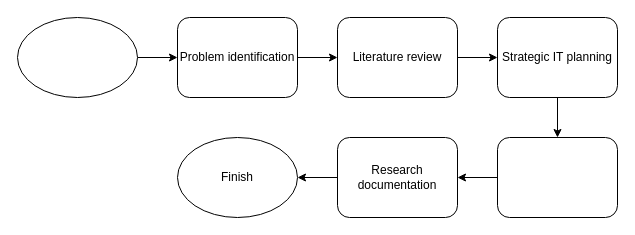
Image size: 635x235. Some labels were removed from this diagram. The centre of each missing label's shape, as x and y in pixels:
"Agile-based system design" goes at (x=557, y=177).
"Star" goes at (x=77, y=57).
